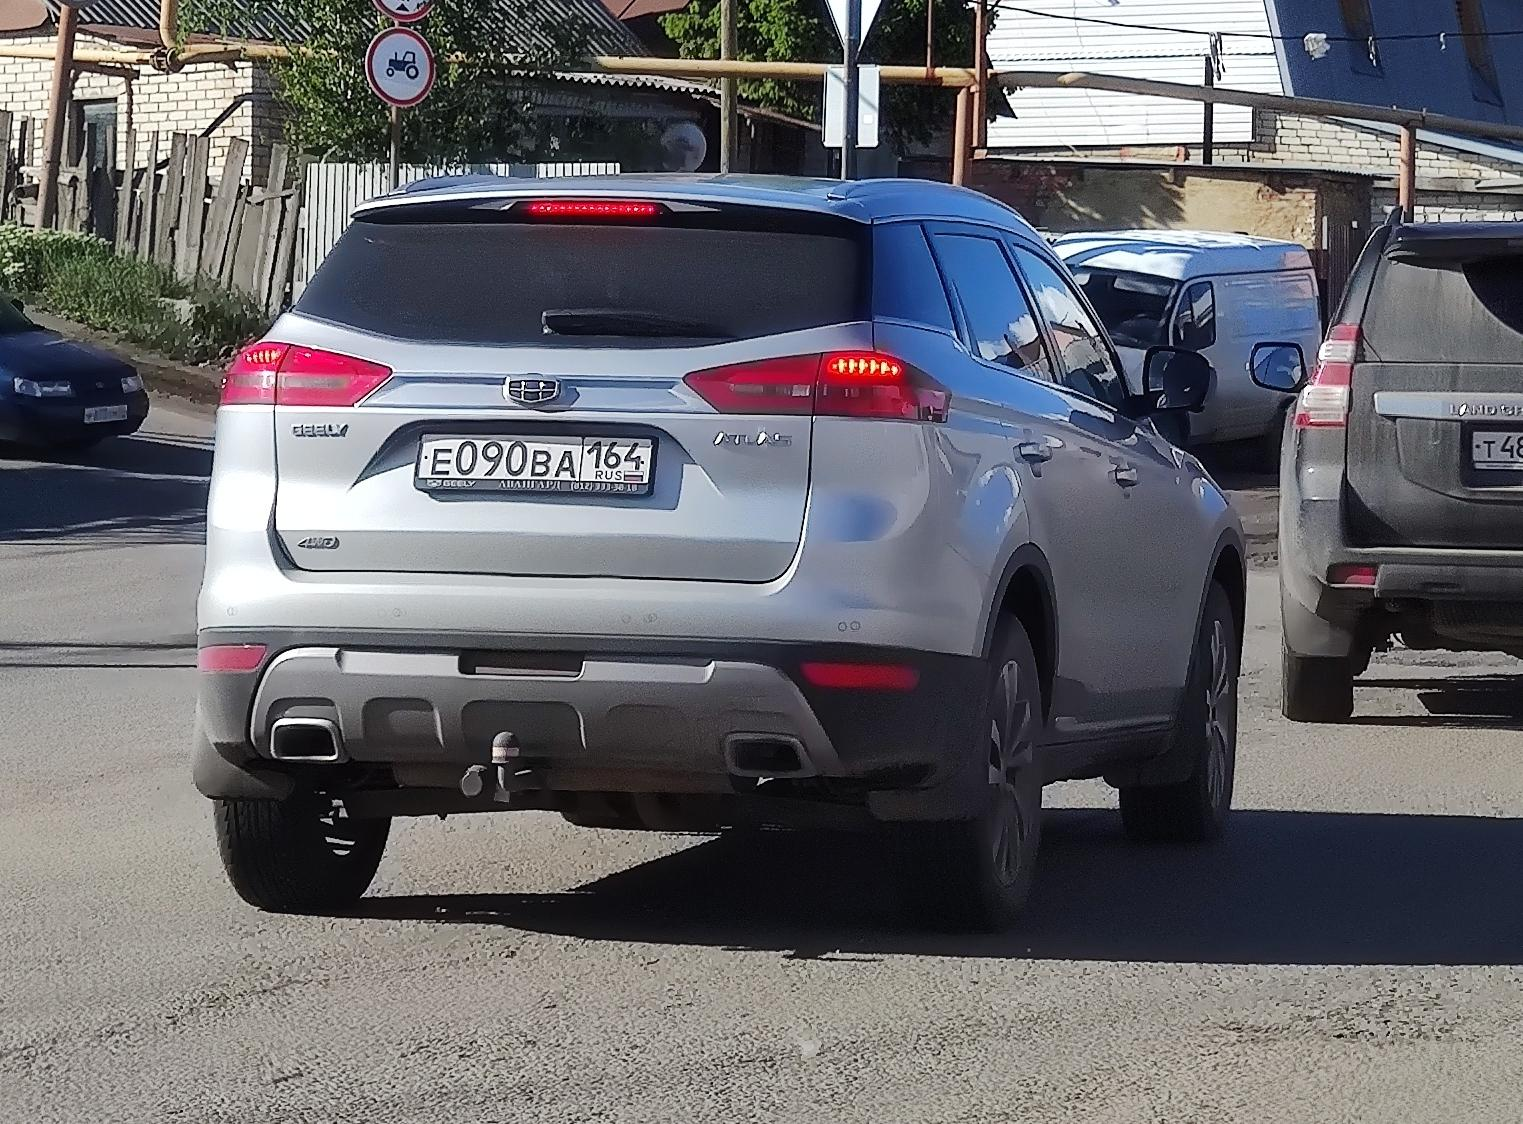license-plateSW: (418, 437, 648, 481), (1473, 432, 1522, 464)
